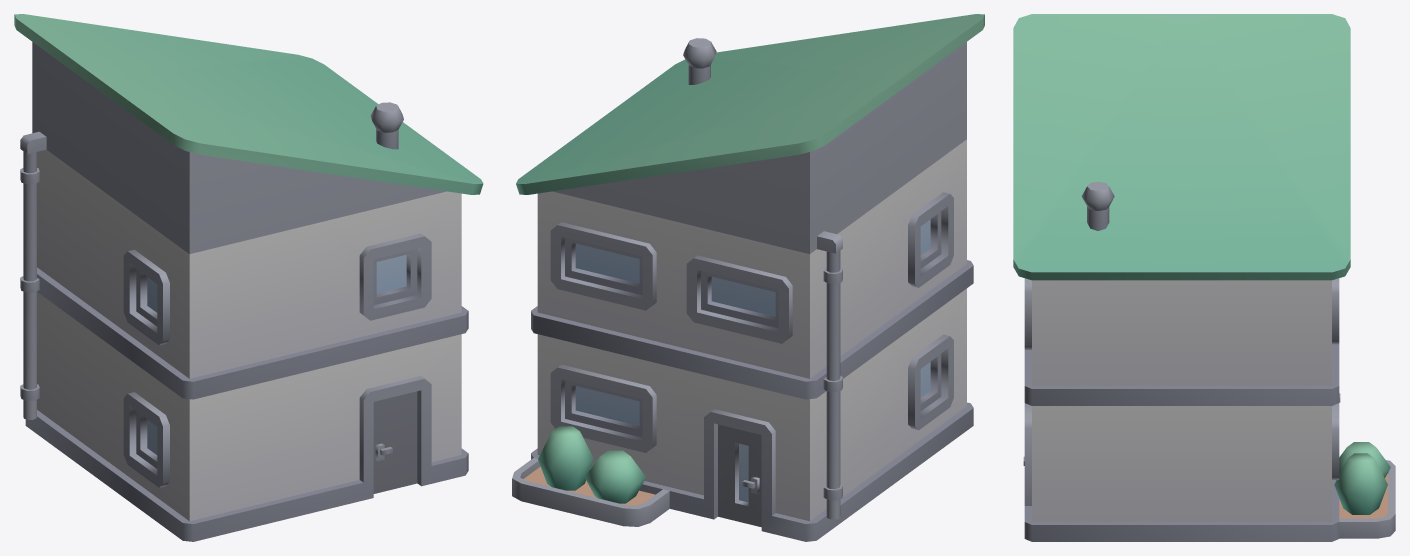
The model's file is building-type-k.glb.
The picture shows the model from 3 angles, left to right: view 1: azimuth 30°, elevation 25°; view 2: azimuth 150°, elevation 25°; view 3: azimuth 270°, elevation 25°; orthographic projection. The views are drawn at different scales.
Parts seen in each view (by area): view 1: building-type-k; view 2: building-type-k; view 3: building-type-k.
Boxes of the visible parts, left/top/right/bottom form: building-type-k: left=14, top=14, right=483, bottom=541; building-type-k: left=512, top=14, right=984, bottom=541; building-type-k: left=1013, top=14, right=1395, bottom=541.
Size of the model in its own units: 0.9209 by 1.15 by 1.02.
